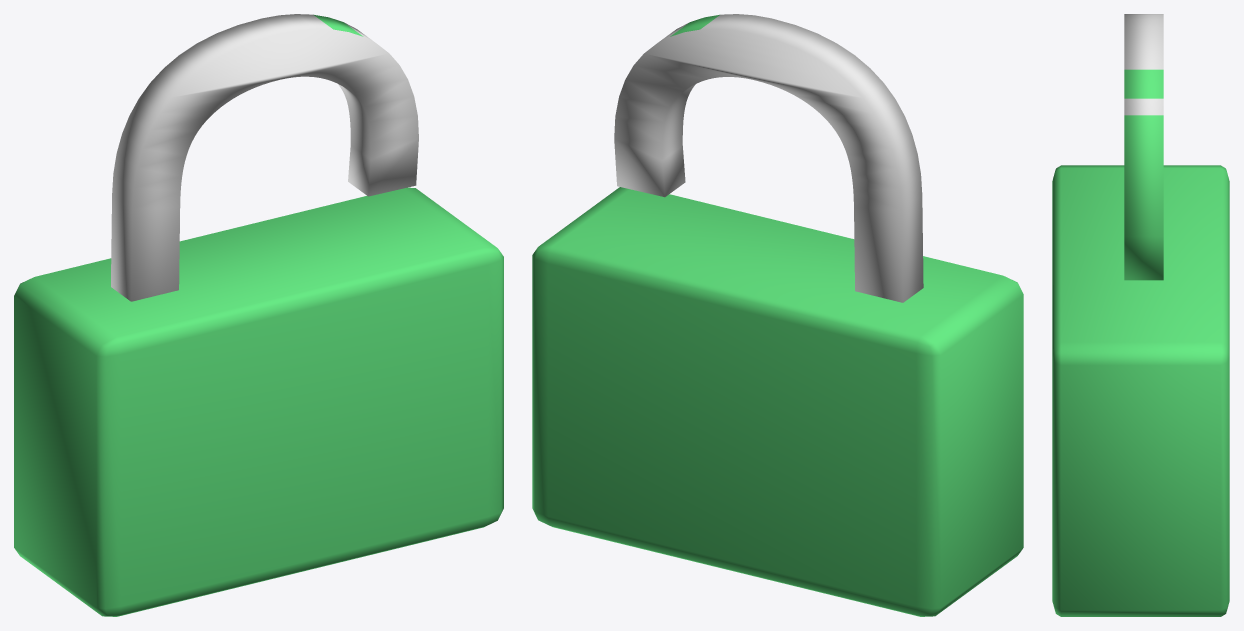
Rendered from lock.glb.
The picture shows the model from 3 angles, left to right: view 1: azimuth 30°, elevation 25°; view 2: azimuth 150°, elevation 25°; view 3: azimuth 270°, elevation 25°; orthographic projection. The views are drawn at different scales.
Parts seen in each view (by area): view 1: Lock; view 2: Lock; view 3: Lock.
Boxes of the visible parts, x1,y1,x2,y2 form: Lock: (14,14,503,616); Lock: (532,14,1023,616); Lock: (1052,14,1229,616).
Bounding box in the file's own units: 1.4 × 1.68 × 0.5432.
